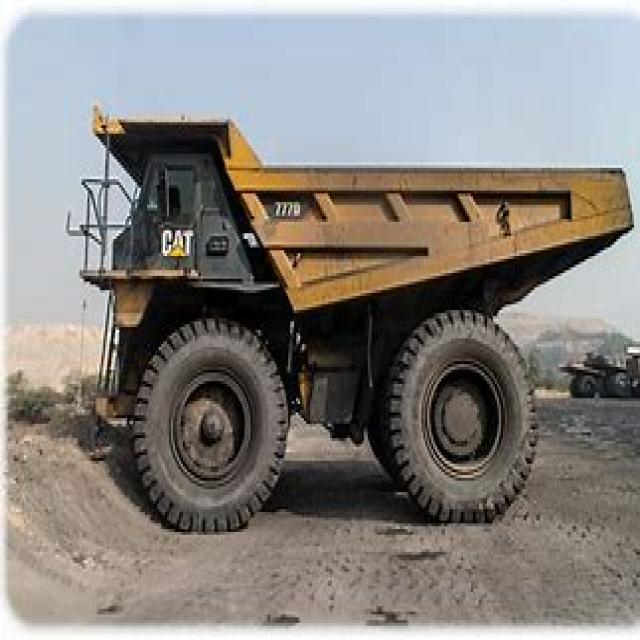dump_truck: (68, 88, 638, 546)
